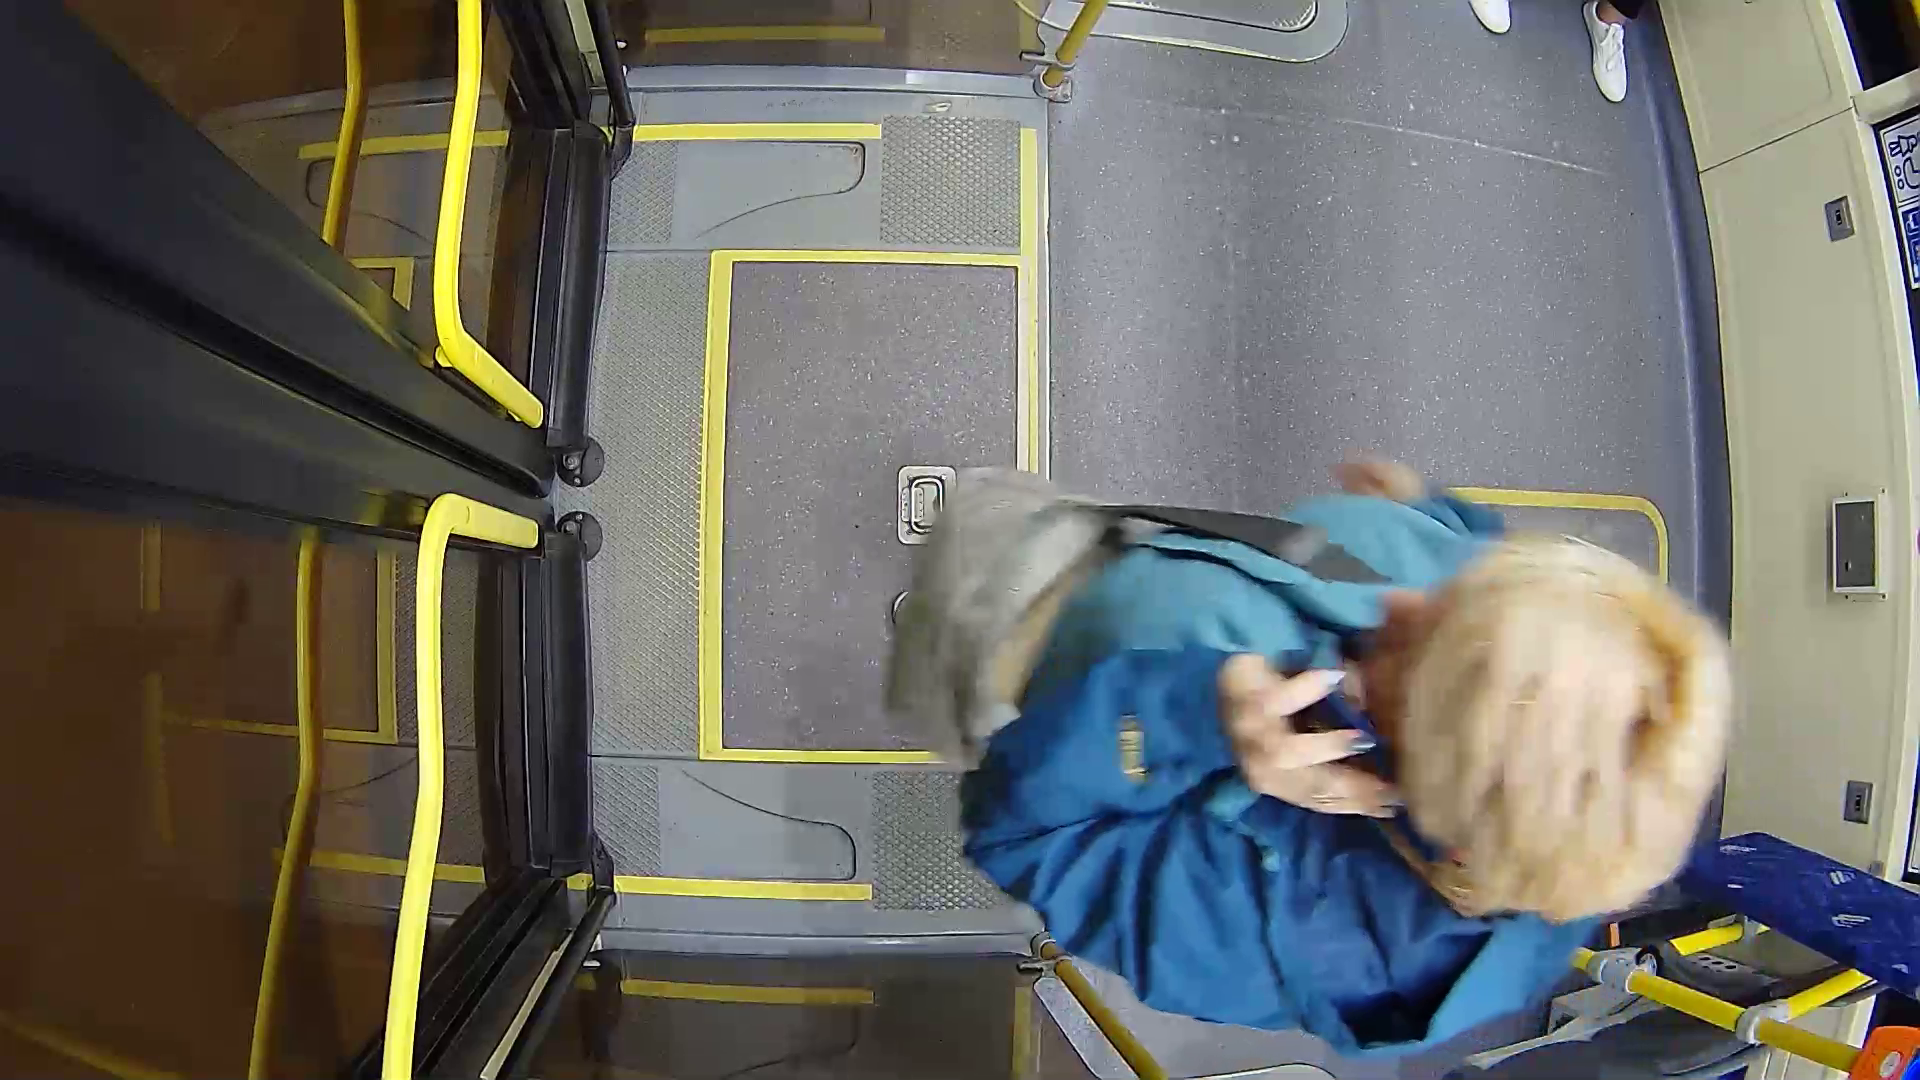person: (845, 358, 1832, 1067)
